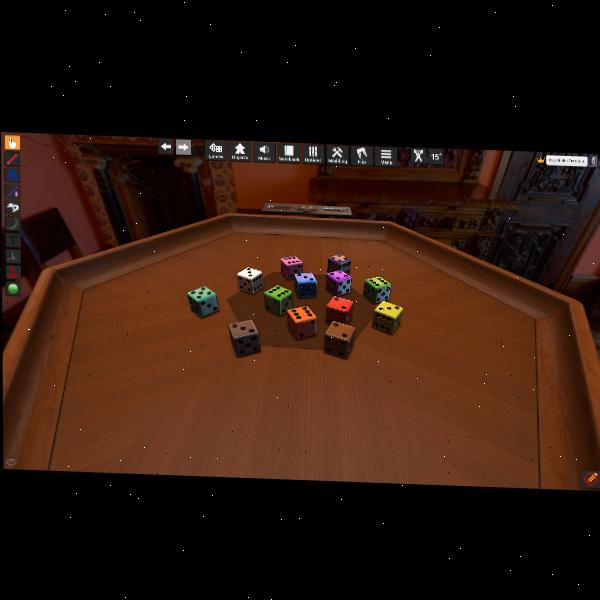d6: (323, 320, 354, 358), (231, 319, 262, 357), (187, 284, 218, 318), (374, 301, 404, 335), (287, 306, 316, 341), (264, 284, 293, 316), (363, 275, 391, 304), (326, 296, 353, 326), (236, 266, 262, 295), (325, 269, 351, 297), (293, 272, 317, 299), (281, 255, 303, 281), (326, 253, 349, 276)
